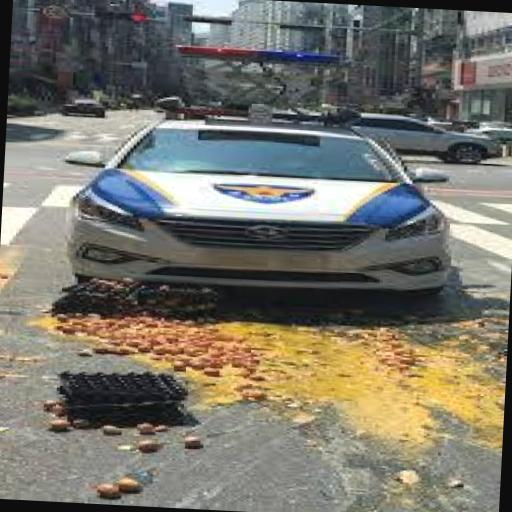Ambulance: (59, 102, 452, 308)
